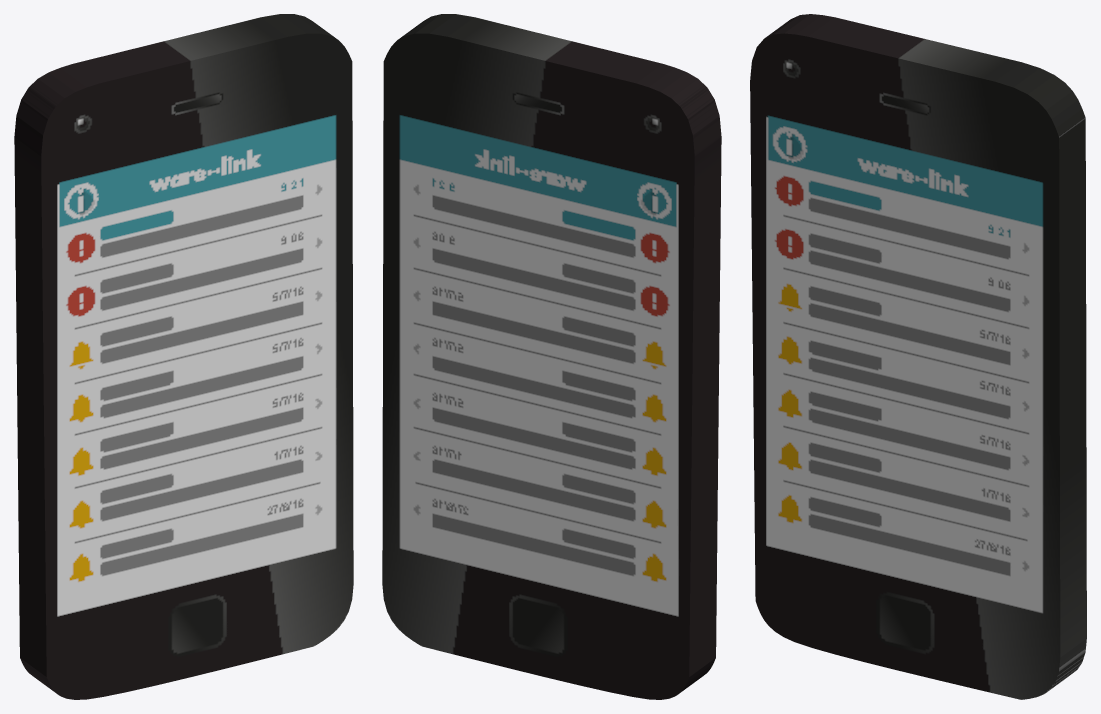
File: phoneWareLink.FBX
3 views of the same model, side by side, from view 1: azimuth 30°, elevation 25°; view 2: azimuth 150°, elevation 25°; view 3: azimuth 330°, elevation 25° (orthographic).
Visible parts, largest first — view 1: phone; view 2: phone; view 3: phone.
Part boxes in pixels (x1,y1,x2,y2): phone: (14,14,353,699); phone: (382,14,721,699); phone: (750,14,1086,699).
Size of the model in its own units: 23.5 by 44.33 by 3.49.
1 material, 1 textured.
